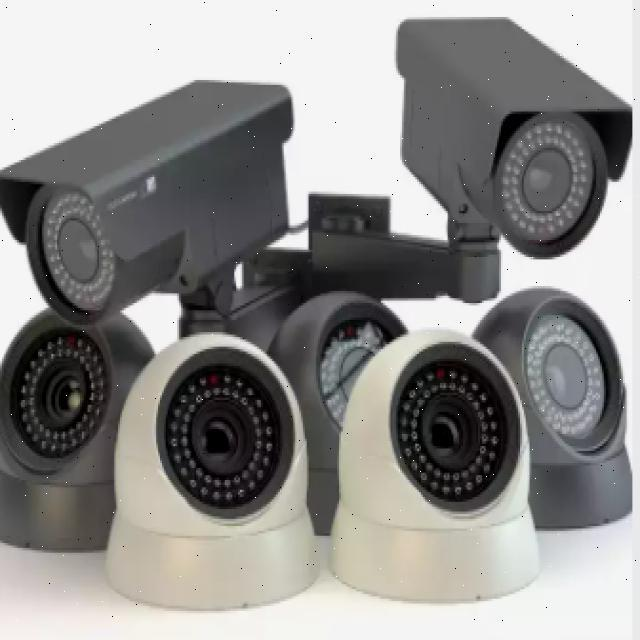cctv: (21, 163, 152, 317), (383, 371, 523, 509), (147, 371, 278, 516), (515, 325, 628, 454), (493, 129, 600, 249), (11, 353, 96, 473)
